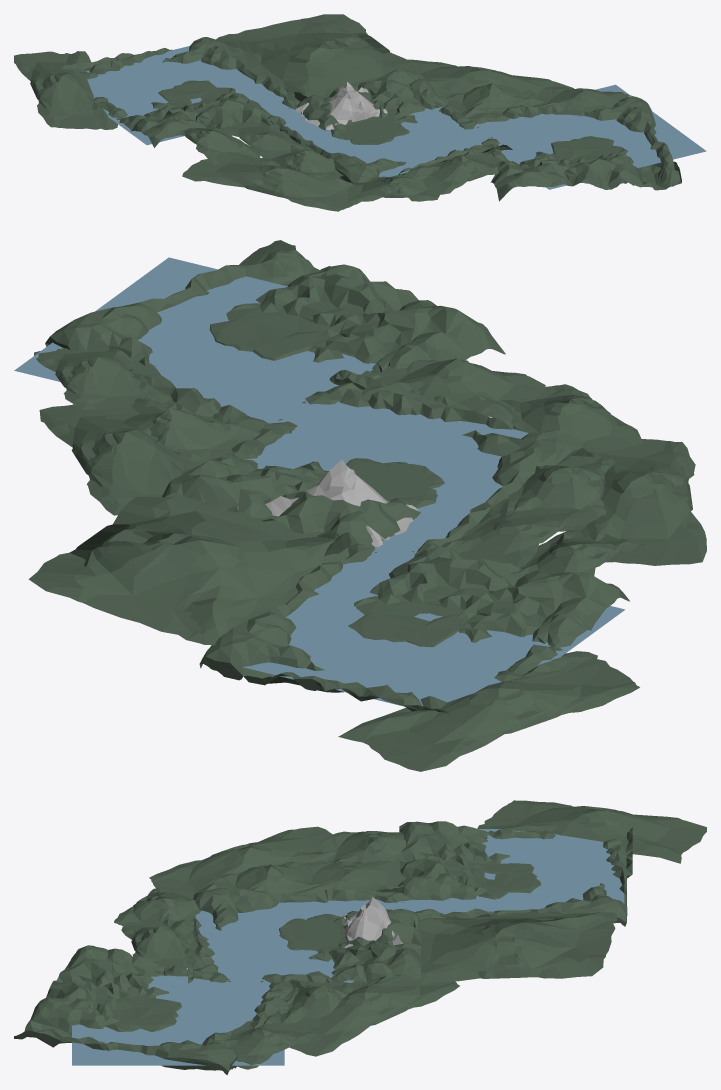
Rendered from World.fbx.
3 renders of one model, top to bottom at view 1: azimuth 30°, elevation 25°; view 2: azimuth 150°, elevation 25°; view 3: azimuth 270°, elevation 25°, orthographic. The views are drawn at different scales.
Visible parts, largest first — view 1: Mountain10, pPlane3, pPlane5, pPlane1, pPlane4, pPlane6, pPlane2, Mountain8, Mountain9, Mountain11, Mountain3, Mountain1 (+6 smaller); view 2: pPlane3, pPlane5, Mountain10, pPlane1, pPlane6, pPlane4, pPlane2, Mountain8, Mountain9, Mountain11, Mountain3, Mountain2 (+6 smaller); view 3: pPlane3, Mountain10, pPlane5, pPlane1, pPlane4, pPlane6, pPlane2, Mountain8, Mountain11, Mountain9, Mountain5, Mountain3 (+6 smaller).
Part boxes in pixels (x1=…): Mountain10: x1=216, y1=14, x2=421, y2=101; pPlane3: x1=468, y1=96, x2=681, y2=201; pPlane5: x1=60, y1=37, x2=307, y2=147; pPlane1: x1=261, y1=69, x2=512, y2=185; pPlane4: x1=467, y1=84, x2=706, y2=189; pPlane6: x1=86, y1=46, x2=300, y2=145; pPlane2: x1=282, y1=107, x2=511, y2=176; Mountain8: x1=14, y1=51, x2=117, y2=129; Mountain9: x1=182, y1=152, x2=354, y2=211; Mountain11: x1=407, y1=59, x2=573, y2=97; Mountain3: x1=404, y1=148, x2=502, y2=194; Mountain1: x1=445, y1=83, x2=543, y2=117; pPlane3: x1=45, y1=240, x2=505, y2=431; pPlane5: x1=199, y1=532, x2=629, y2=714; Mountain10: x1=28, y1=496, x2=349, y2=645; pPlane1: x1=162, y1=370, x2=586, y2=556; pPlane6: x1=203, y1=540, x2=625, y2=706; pPlane4: x1=14, y1=257, x2=375, y2=424; pPlane2: x1=243, y1=382, x2=586, y2=548; Mountain8: x1=338, y1=651, x2=639, y2=771; Mountain9: x1=574, y1=439, x2=706, y2=565; Mountain11: x1=39, y1=404, x2=209, y2=515; Mountain3: x1=361, y1=358, x2=545, y2=422; Mountain2: x1=34, y1=348, x2=172, y2=410; pPlane3: x1=14, y1=945, x2=298, y2=1074; Mountain10: x1=417, y1=912, x2=617, y2=985; pPlane5: x1=398, y1=821, x2=632, y2=926; pPlane1: x1=188, y1=885, x2=420, y2=983; pPlane4: x1=72, y1=975, x2=284, y2=1065; pPlane6: x1=397, y1=829, x2=624, y2=918; pPlane2: x1=195, y1=899, x2=397, y2=984; Mountain8: x1=477, y1=800, x2=706, y2=863; Mountain11: x1=290, y1=974, x2=459, y2=1056; Mountain9: x1=149, y1=826, x2=336, y2=892; Mountain5: x1=293, y1=860, x2=406, y2=895; Mountain3: x1=121, y1=919, x2=206, y2=969.
Bounding box in the file's own units: 857 × 67.13 × 934.
